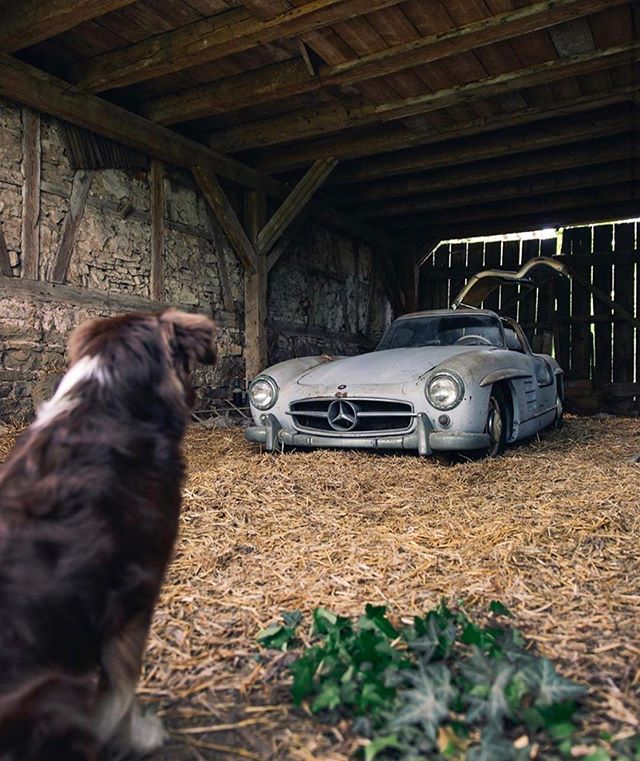animal: (1, 294, 258, 761)
car: (229, 294, 581, 459)
